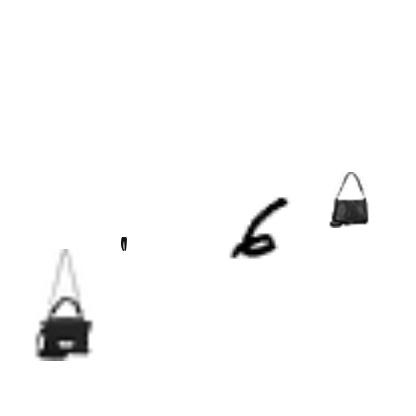6: (215, 192, 299, 276)
Bag: (8, 249, 120, 361), (320, 172, 376, 228)
Trouser: (117, 237, 131, 251)
